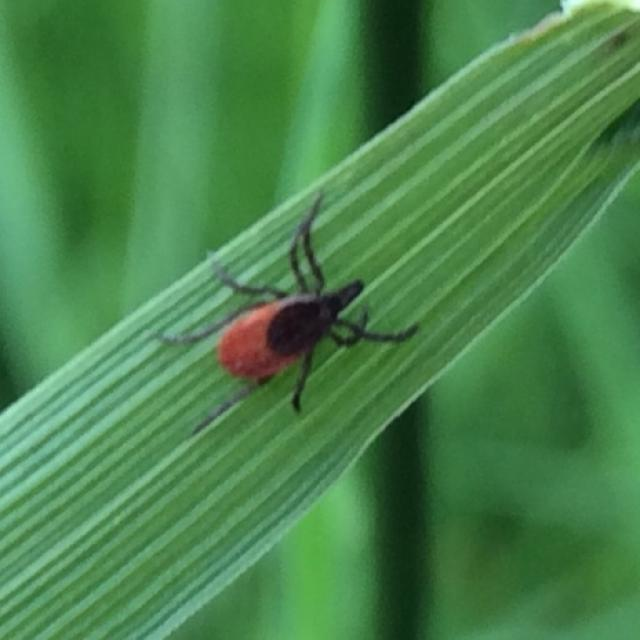Ixodes Ricinus-F: (157, 193, 421, 411)
